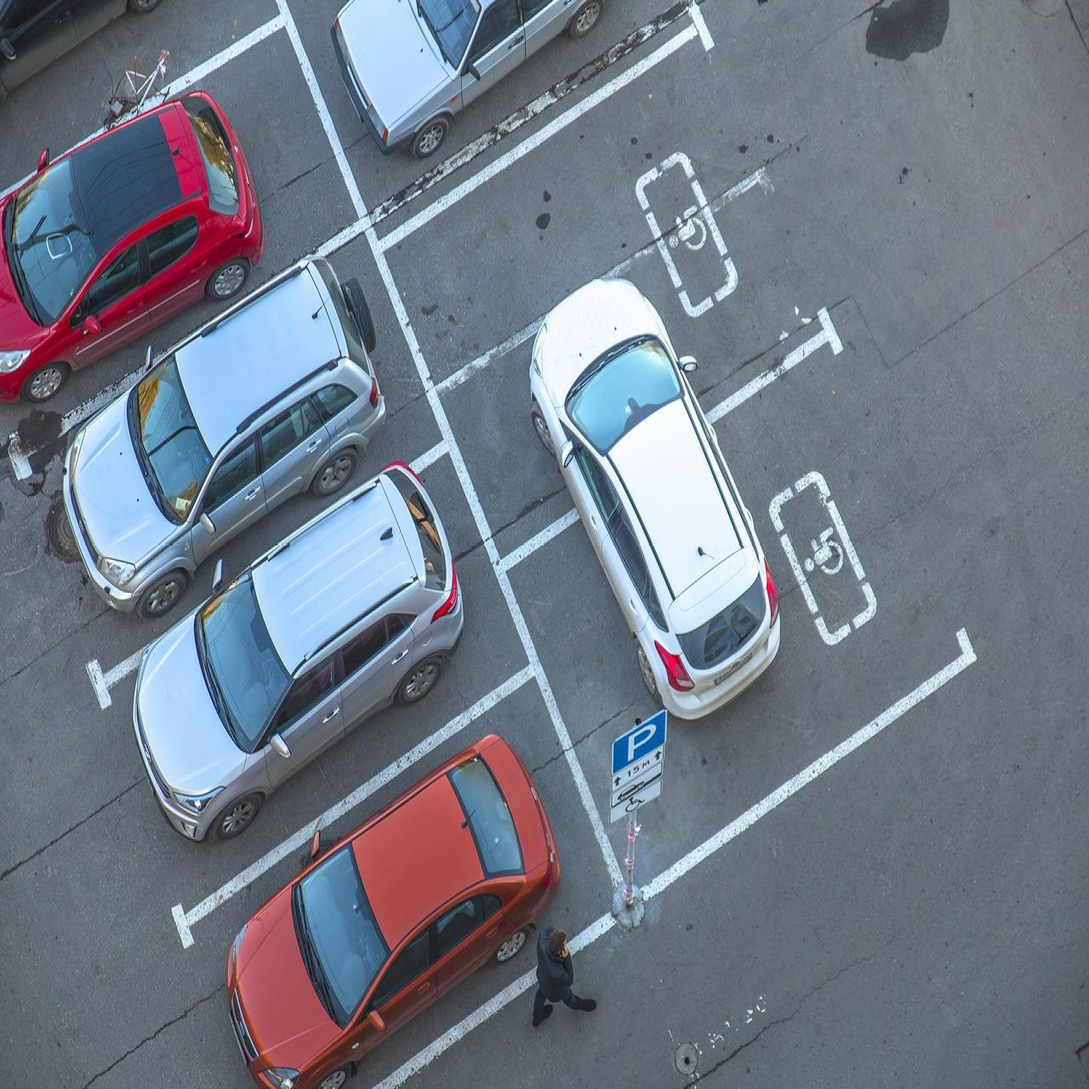cars: (439, 108, 760, 491), (77, 279, 385, 663), (564, 402, 876, 780), (179, 472, 468, 817), (11, 76, 302, 369), (249, 763, 546, 1047), (332, 0, 649, 174)
